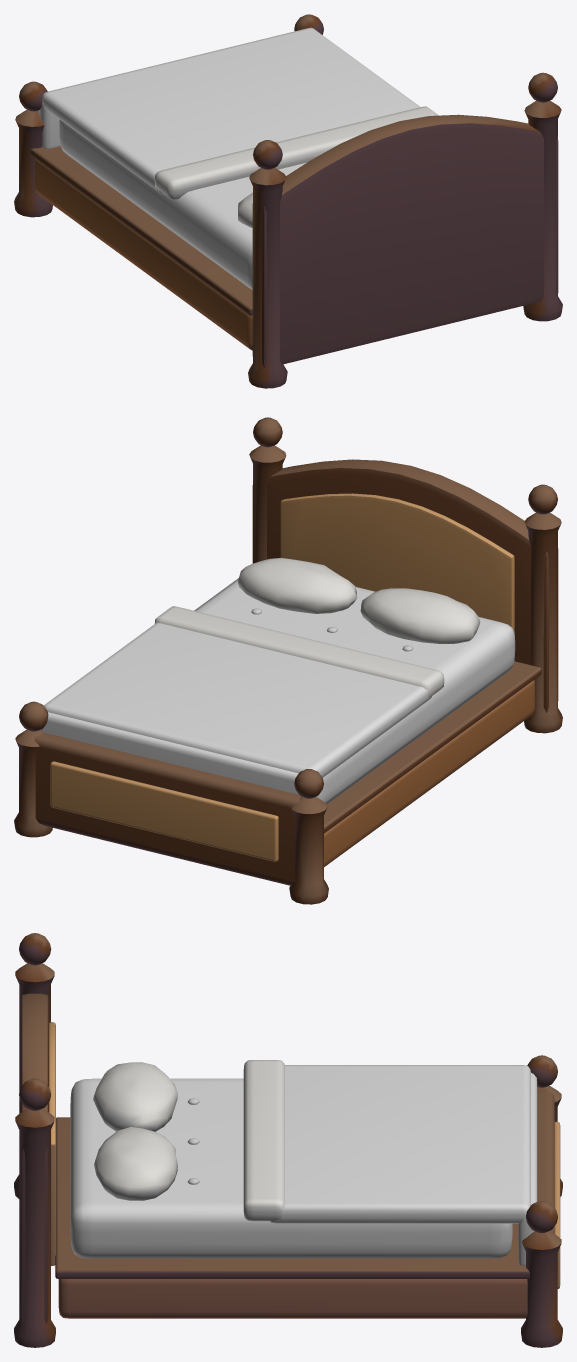
The model's file is Bed.fbx.
3 renders of one model, top to bottom at view 1: azimuth 30°, elevation 25°; view 2: azimuth 150°, elevation 25°; view 3: azimuth 270°, elevation 25°, orthographic. The views are drawn at different scales.
Visible parts, largest first — view 1: SM_Prop_Bed_Frame, SM_Prop_Bed_Blanket, SM_Prop_Bed_Sheet, SM_Prop_Bed_Linen; view 2: SM_Prop_Bed_Frame, SM_Prop_Bed_Blanket, SM_Prop_Bed_Linen, SM_Prop_Bed_Sheet; view 3: SM_Prop_Bed_Frame, SM_Prop_Bed_Blanket, SM_Prop_Bed_Sheet, SM_Prop_Bed_Linen.
Boxes of the visible parts, x1=… form: SM_Prop_Bed_Frame: x1=14, y1=14, x2=562, y2=388; SM_Prop_Bed_Blanket: x1=39, y1=27, x2=420, y2=194; SM_Prop_Bed_Sheet: x1=59, y1=119, x2=306, y2=289; SM_Prop_Bed_Linen: x1=154, y1=106, x2=438, y2=227; SM_Prop_Bed_Frame: x1=14, y1=417, x2=562, y2=904; SM_Prop_Bed_Blanket: x1=40, y1=622, x2=431, y2=796; SM_Prop_Bed_Linen: x1=154, y1=558, x2=480, y2=697; SM_Prop_Bed_Sheet: x1=194, y1=578, x2=515, y2=804; SM_Prop_Bed_Frame: x1=14, y1=933, x2=562, y2=1347; SM_Prop_Bed_Blanket: x1=270, y1=1065, x2=537, y2=1265; SM_Prop_Bed_Sheet: x1=70, y1=1078, x2=512, y2=1258; SM_Prop_Bed_Linen: x1=93, y1=1060, x2=284, y2=1221.
Size of the model in its own units: 5.74 by 4.24 by 8.13.
